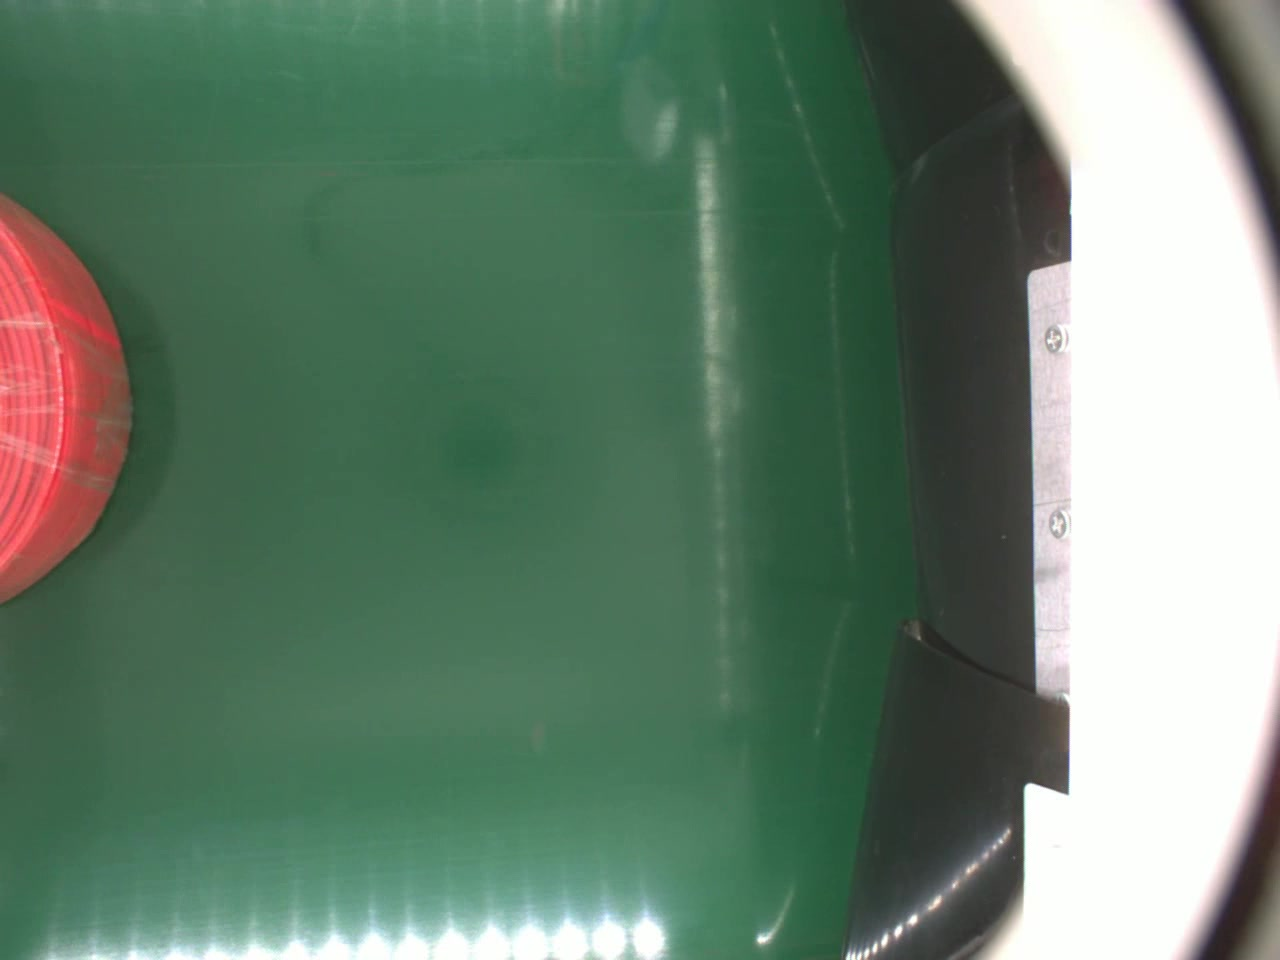red: (0, 192, 132, 585)
